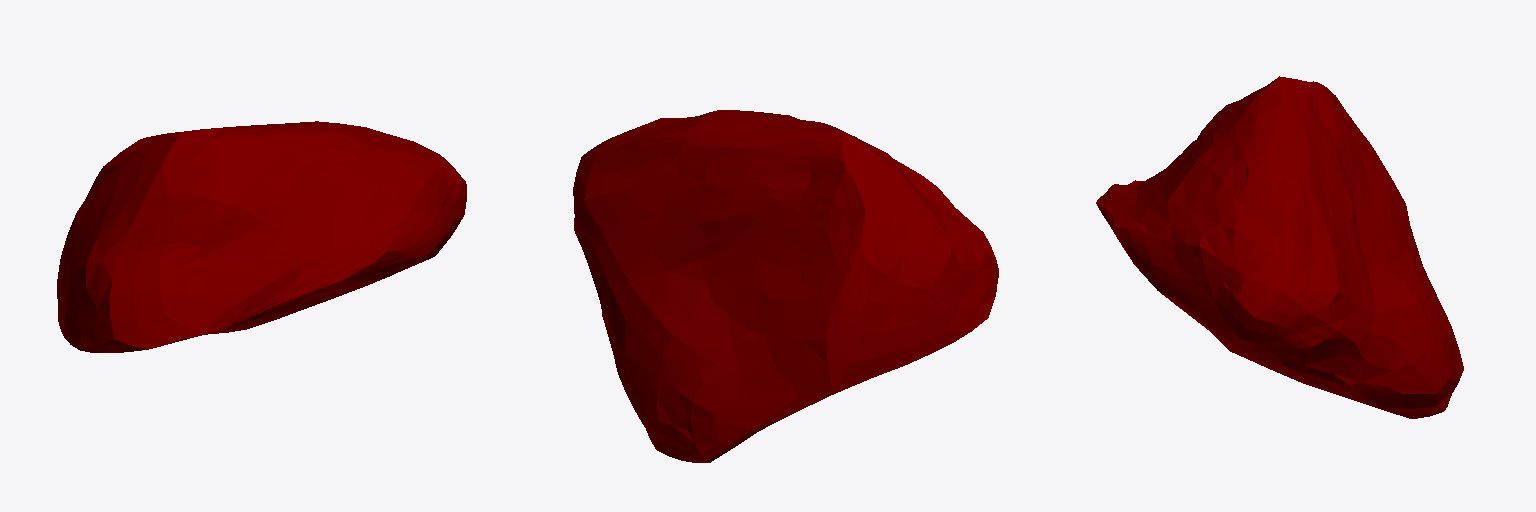
Rendered from rock3.obj.
The picture shows the model from 3 angles: view 1: azimuth 30°, elevation 25°; view 2: azimuth 150°, elevation 25°; view 3: azimuth 270°, elevation 25°; orthographic projection.
Parts seen in each view (by area): view 1: rock8:bolder1 rock8:bolderGroup1 rock8:polySurface1 group8; view 2: rock8:bolder1 rock8:bolderGroup1 rock8:polySurface1 group8; view 3: rock8:bolder1 rock8:bolderGroup1 rock8:polySurface1 group8.
Part boxes in pixels (bbox=[...]): rock8:bolder1 rock8:bolderGroup1 rock8:polySurface1 group8: bbox=[57, 121, 466, 352]; rock8:bolder1 rock8:bolderGroup1 rock8:polySurface1 group8: bbox=[573, 110, 998, 462]; rock8:bolder1 rock8:bolderGroup1 rock8:polySurface1 group8: bbox=[1096, 76, 1463, 418].
Size of the model in its own units: 14.56 by 10.02 by 11.73.